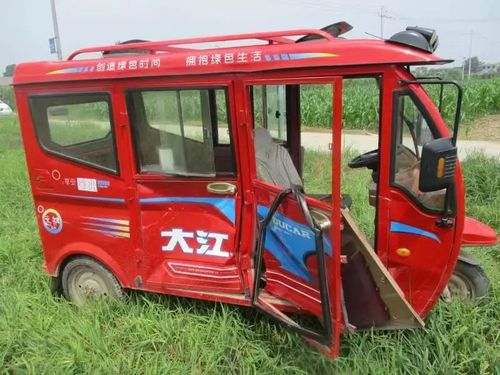empty: (13, 56, 482, 325)
